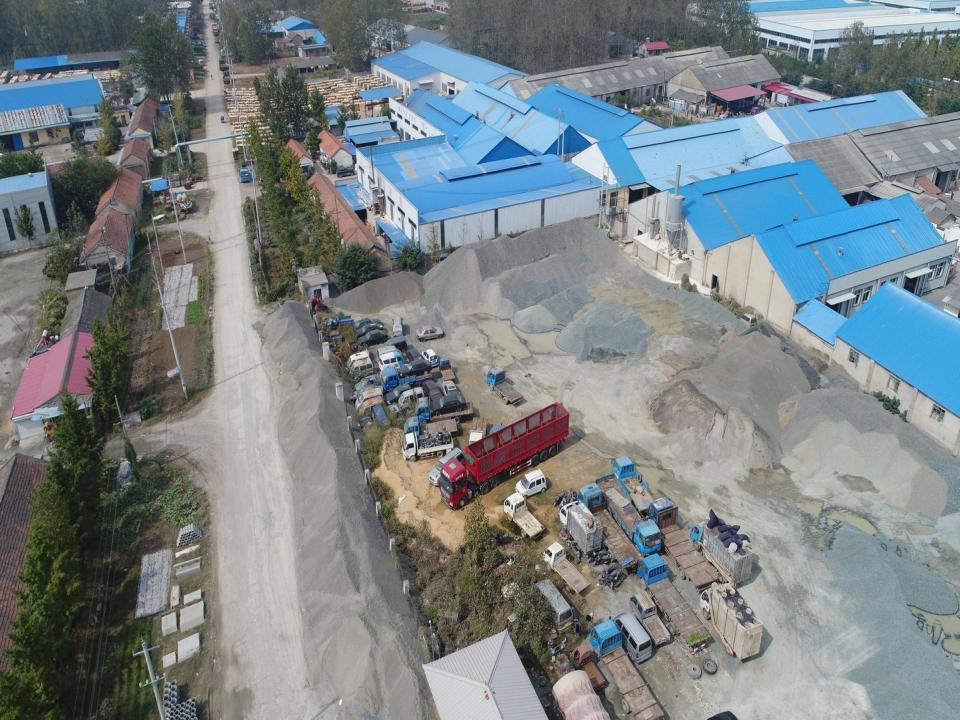car: (514, 468, 547, 499), (357, 414, 381, 446), (352, 373, 382, 398), (430, 394, 467, 414), (350, 384, 383, 406), (422, 378, 445, 407), (440, 379, 464, 405), (355, 329, 388, 347), (415, 326, 444, 344), (406, 347, 426, 372), (354, 322, 385, 338), (351, 317, 382, 333), (422, 348, 440, 368), (335, 166, 355, 178), (214, 37, 220, 43)
truck: (439, 398, 569, 510), (590, 618, 666, 719), (638, 552, 714, 652), (650, 496, 720, 593), (578, 481, 644, 572), (595, 473, 662, 559), (689, 518, 755, 583), (607, 454, 657, 519), (543, 542, 590, 598), (628, 591, 671, 647), (502, 492, 546, 541), (414, 394, 474, 426), (488, 411, 535, 449), (400, 429, 454, 462), (484, 366, 525, 408), (403, 414, 460, 438), (467, 415, 492, 457), (480, 557, 511, 584), (397, 359, 433, 378), (324, 314, 354, 331), (438, 357, 457, 383), (174, 188, 192, 212), (749, 105, 776, 117), (238, 166, 250, 183), (222, 69, 232, 83), (218, 57, 226, 71), (212, 23, 219, 36), (220, 114, 225, 124)
van: (534, 578, 574, 632), (613, 611, 654, 662), (428, 444, 466, 490), (380, 364, 437, 394), (356, 393, 387, 423), (354, 387, 385, 415), (385, 382, 417, 405), (399, 385, 427, 409), (350, 357, 374, 384), (379, 352, 406, 376), (373, 404, 393, 436), (344, 351, 370, 375), (382, 337, 409, 360), (376, 345, 404, 366), (387, 402, 406, 426), (739, 312, 757, 332), (392, 314, 405, 337)
